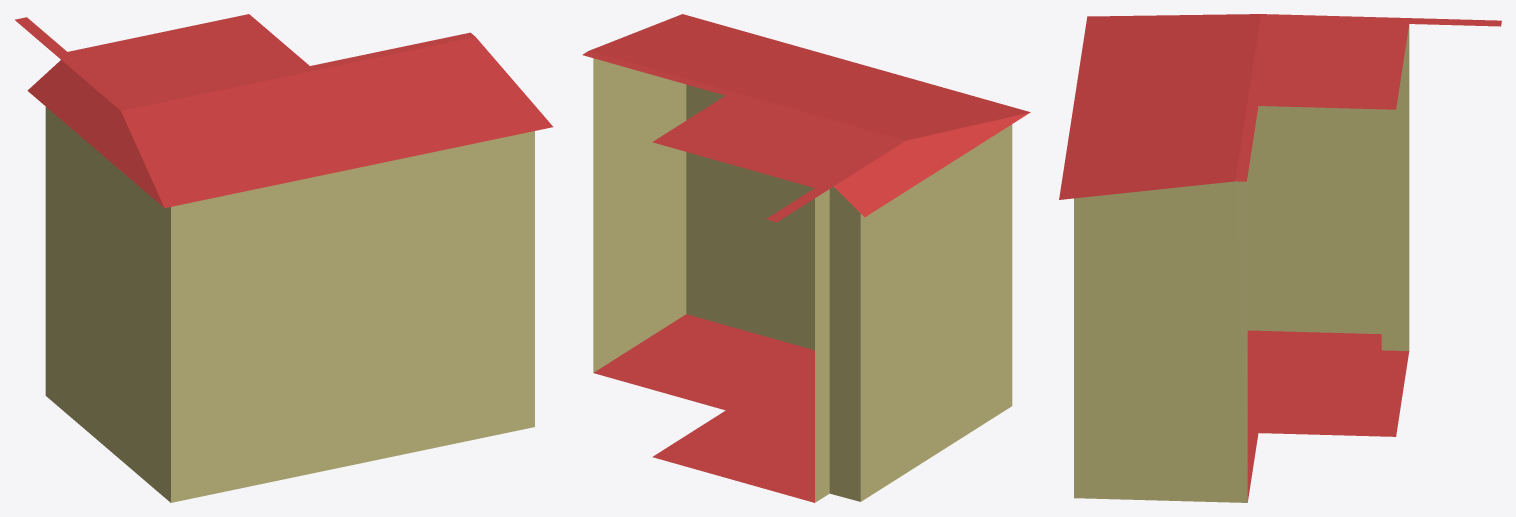
3 renders of one model, left to right at view 1: azimuth 30°, elevation 25°; view 2: azimuth 150°, elevation 25°; view 3: azimuth 270°, elevation 25°, orthographic. The views are drawn at different scales.
Size of the model in its own units: 7.97 by 7.91 by 6.44.
